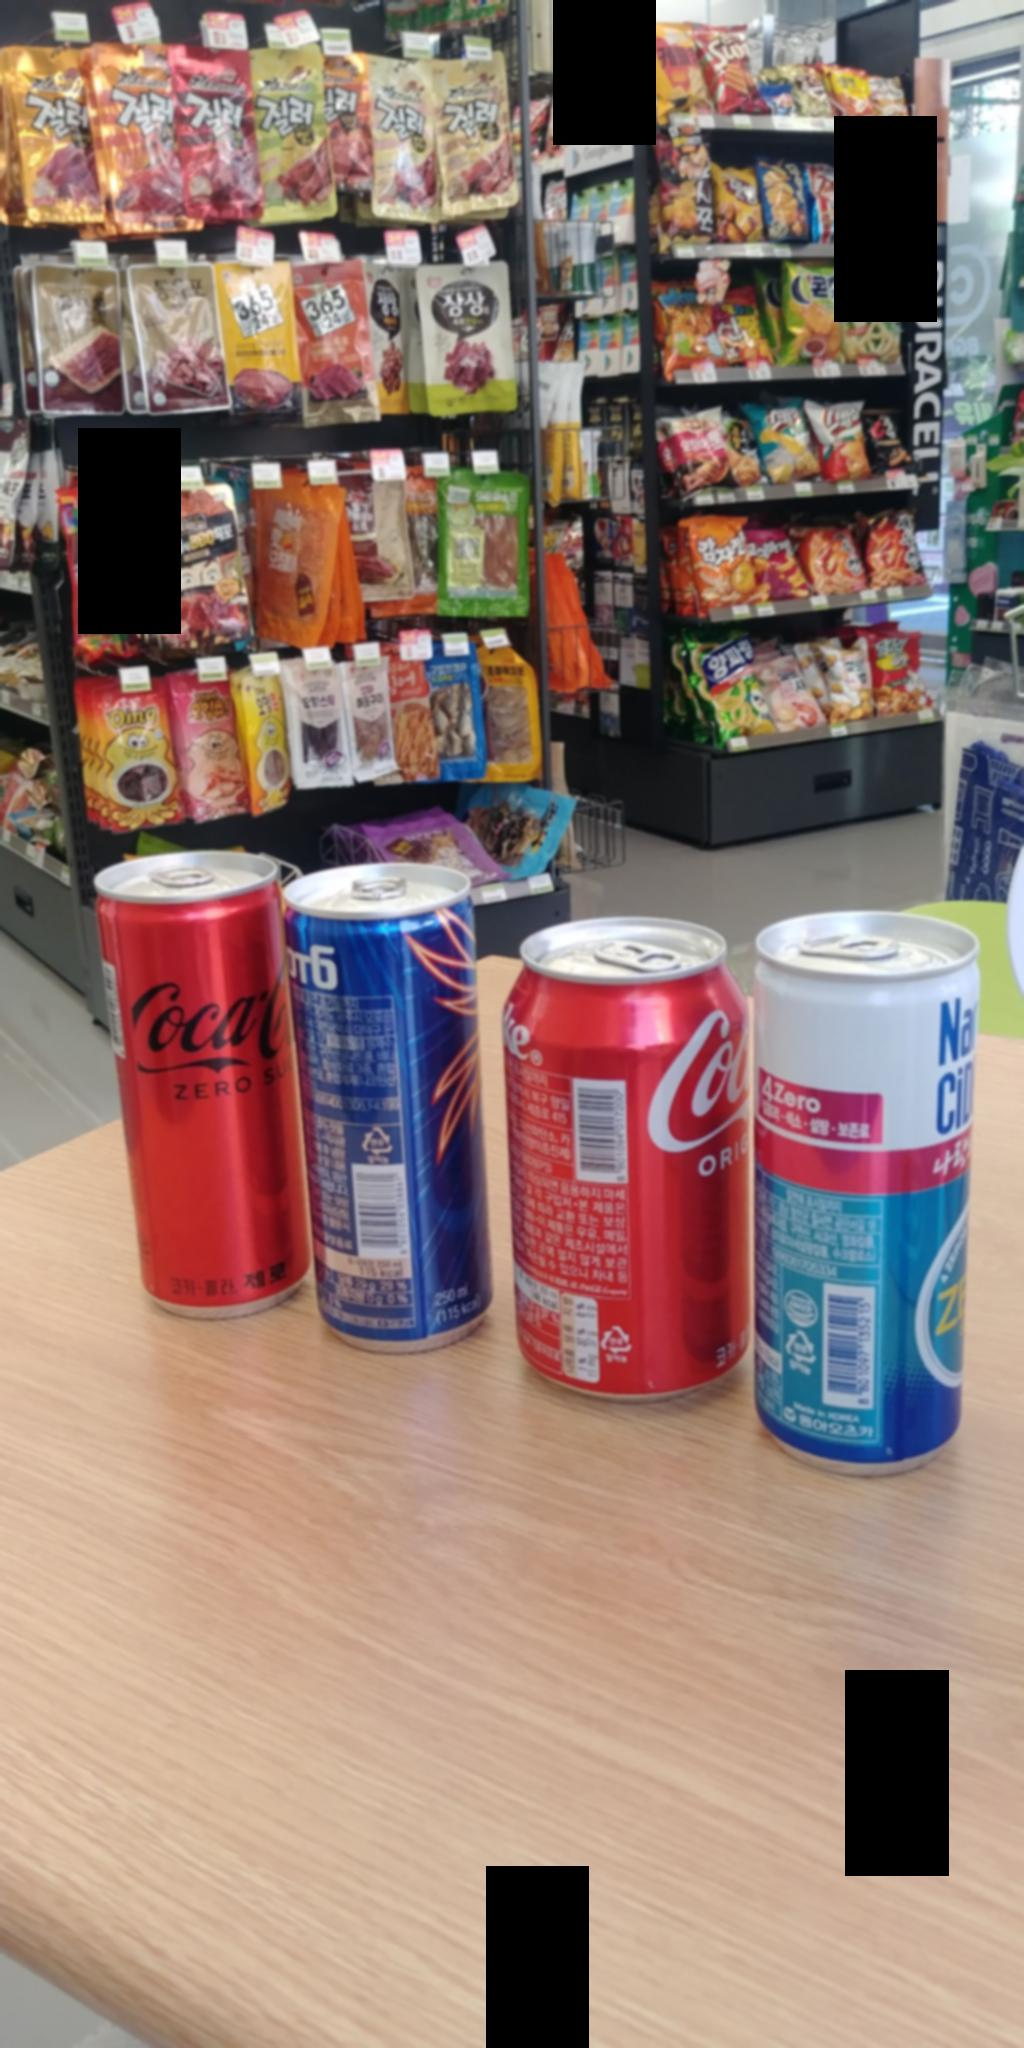cocacola: (504, 935, 730, 1415)
hotsix_org: (293, 866, 475, 1348)
narangdcider: (769, 901, 1012, 1459)
